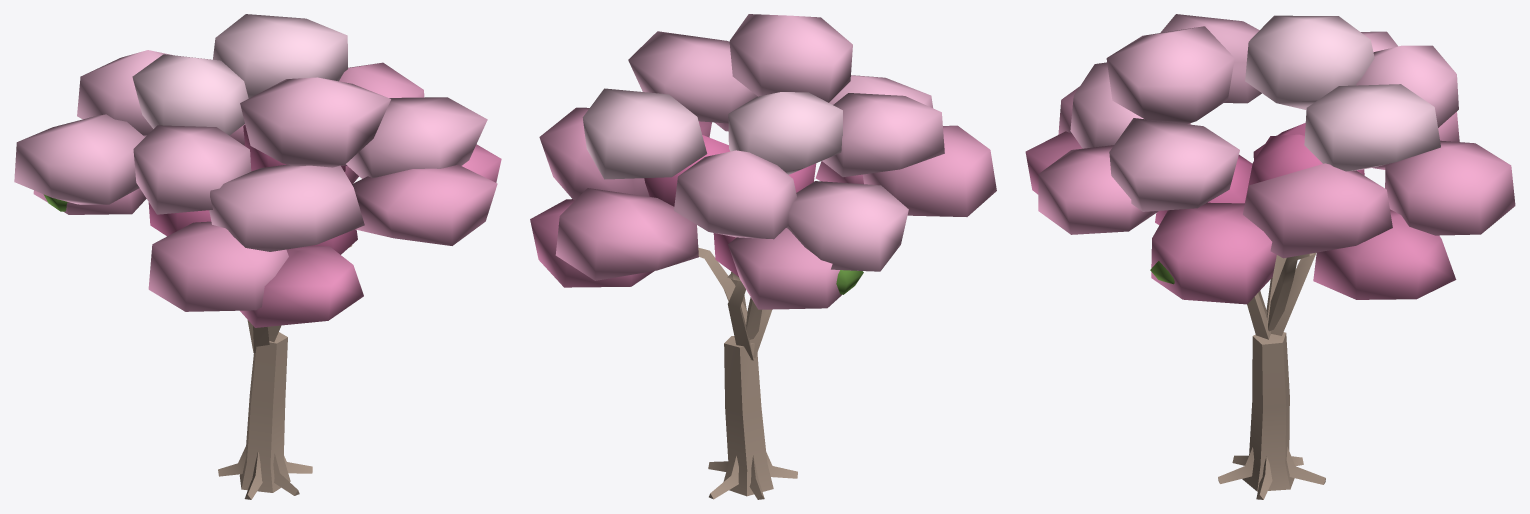
File: cherry.far.glb
3 renders of one model, left to right at view 1: azimuth 30°, elevation 25°; view 2: azimuth 150°, elevation 25°; view 3: azimuth 270°, elevation 25°, orthographic. The views are drawn at different scales.
Visible parts, largest first — view 1: cherry; view 2: cherry; view 3: cherry.
Part boxes in pixels (x1,y1,x2,y2): cherry: (14,14,501,499); cherry: (530,14,996,499); cherry: (1025,14,1515,499).
Bounding box in the file's own units: 5.04 × 5.49 × 5.41.
